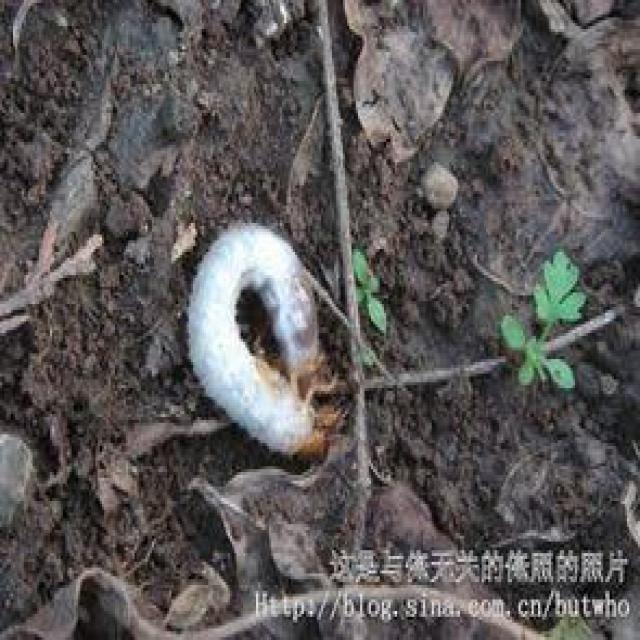Grub-Adult-: (176, 216, 340, 470)
